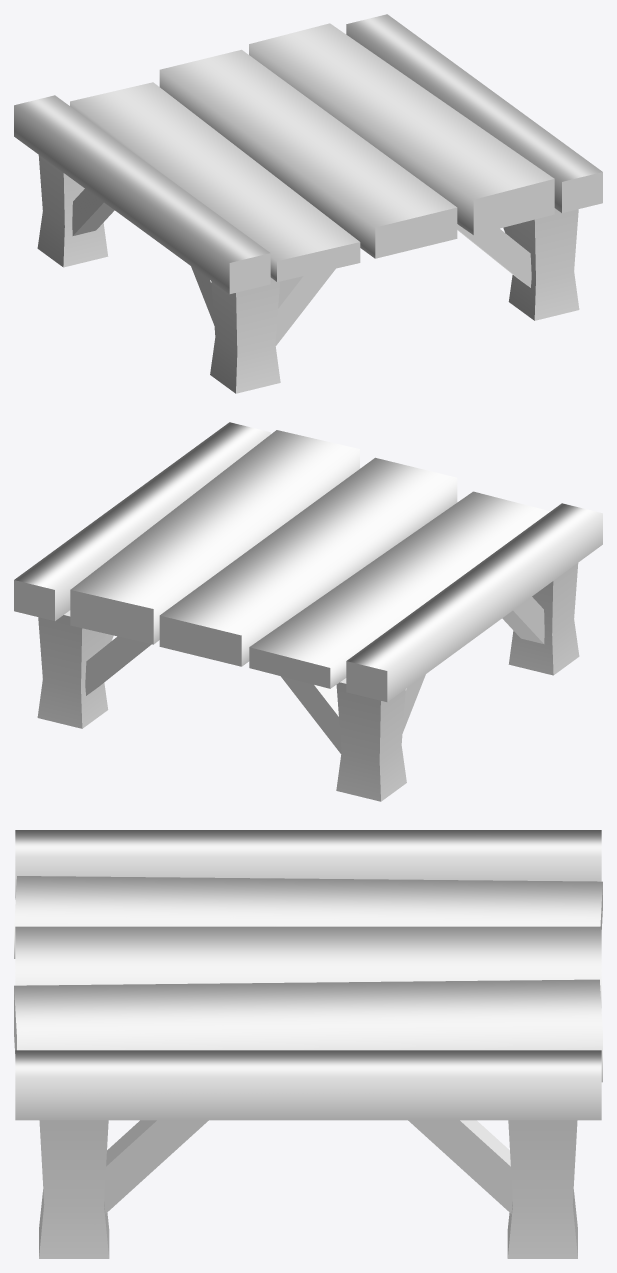
Rendered from structure-platform.glb.
The picture shows the model from 3 angles, top to bottom: view 1: azimuth 30°, elevation 25°; view 2: azimuth 150°, elevation 25°; view 3: azimuth 270°, elevation 25°; orthographic projection. The views are drawn at different scales.
Parts seen in each view (by area): view 1: structure-platform; view 2: structure-platform; view 3: structure-platform.
Boxes of the visible parts, x1,y1,x2,y2 form: structure-platform: [14, 14, 602, 393]; structure-platform: [14, 422, 602, 801]; structure-platform: [14, 830, 602, 1258].
Bounding box in the file's own units: 2.5 × 0.9279 × 2.51.
Materials: 1 (1 with a texture image).
